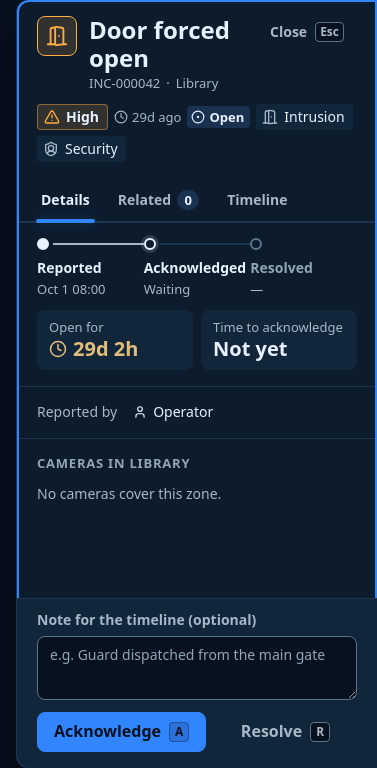
it: IncidentDetail › timeline › lists every event in order
Click the tab "Timeline". click: click(257, 200)
box: [215,178,300,222]
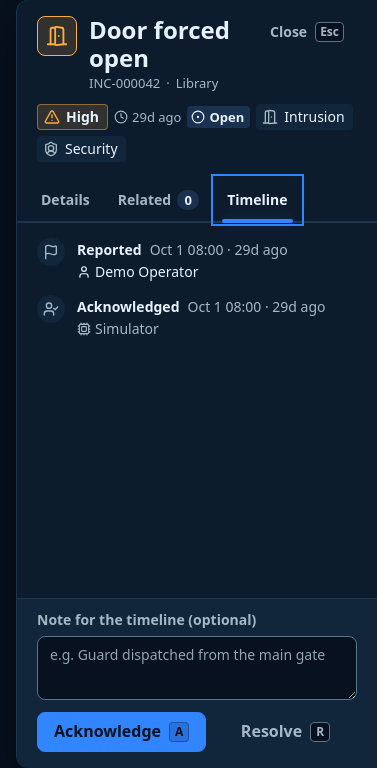
Check: the number of list items is 2, box [37,238,288,281]; [37,295,357,339]
Check: the list item "Reported Oct 1 08:00 · 29d ago Demo Operator" is shown, box [37,238,288,281]
Check: the list item "Acknowledged Oct 1 08:00 · 29d ago Simulator" is shown, box [37,295,357,339]
